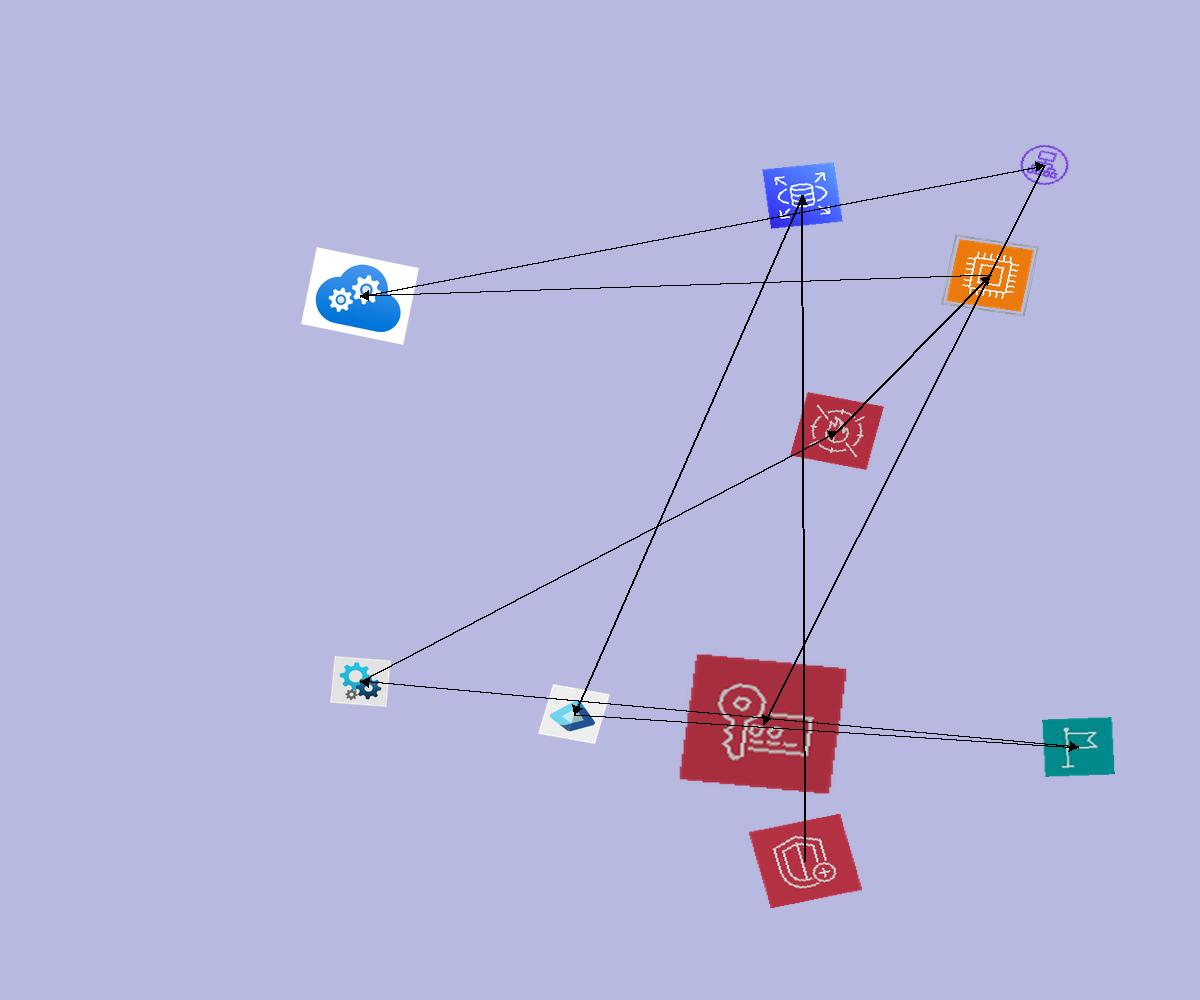AWS-Category_Compute: (940, 234, 1040, 317)
AWS-Key-Management-Service: (678, 653, 848, 795)
AWS-RDS: (762, 162, 843, 229)
AWS-Region: (1042, 717, 1115, 777)
AWS-Res_Elastic-Load-Balancing_Application-Load-Balancer: (1012, 138, 1077, 192)
AWS-Shield: (748, 813, 863, 909)
AWS-WAF: (790, 392, 884, 470)
Azure_api: (330, 656, 391, 707)
Azure_cloud_services: (301, 247, 419, 345)
Azure_microsoft_entra: (538, 684, 610, 744)
